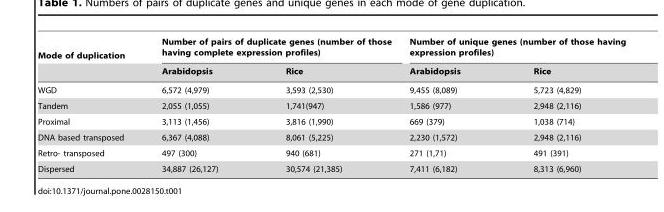table: (37, 37, 625, 173)
table column: (251, 37, 399, 173), (496, 37, 625, 173), (142, 37, 251, 173), (37, 37, 142, 173), (399, 37, 496, 173)
table column header: (37, 37, 625, 80)
table row: (37, 37, 625, 63), (37, 63, 625, 80), (37, 80, 625, 97), (37, 97, 625, 113), (37, 113, 625, 129), (37, 129, 625, 145), (37, 145, 625, 160), (37, 160, 625, 173)
table spanning cell: (142, 37, 399, 63), (399, 37, 625, 63), (37, 37, 142, 80)
